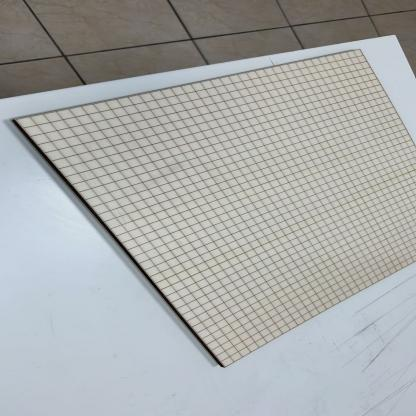grid: (6, 41, 416, 372)
